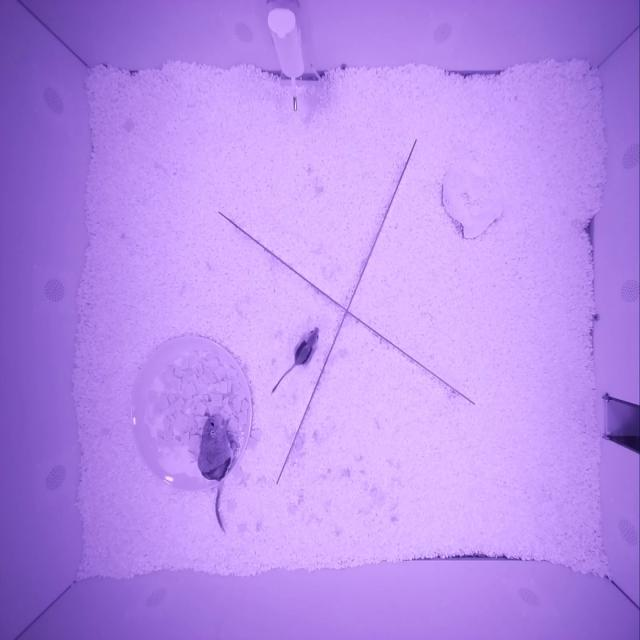adult_back: (198, 414, 232, 481)
pup_v_stripe: (293, 327, 319, 365)
